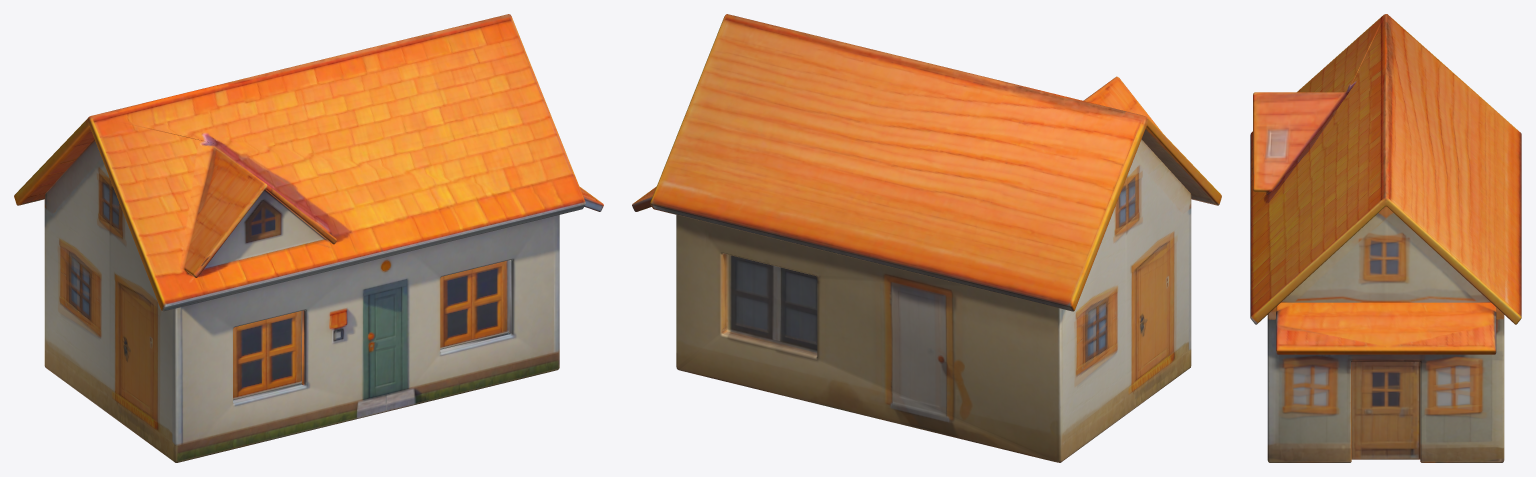
File: Casita4_0415212523_texture.fbx
The picture shows the model from 3 angles, left to right: view 1: azimuth 30°, elevation 25°; view 2: azimuth 150°, elevation 25°; view 3: azimuth 270°, elevation 25°; orthographic projection. The views are drawn at different scales.
Visible parts, largest first — view 1: Cube.017; view 2: Cube.017; view 3: Cube.017.
Boxes of the visible parts, left/top/right/bottom form: Cube.017: left=14, top=14, right=603, bottom=462; Cube.017: left=632, top=14, right=1221, bottom=462; Cube.017: left=1250, top=14, right=1521, bottom=462.
Bounding box in the file's own units: 200 × 128 × 115.
1 material, 1 textured.
